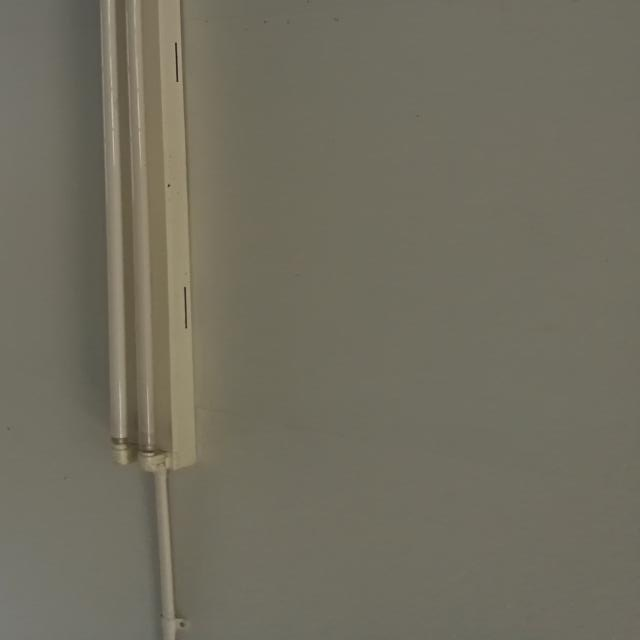fluorescent tube: (55, 0, 212, 479)
